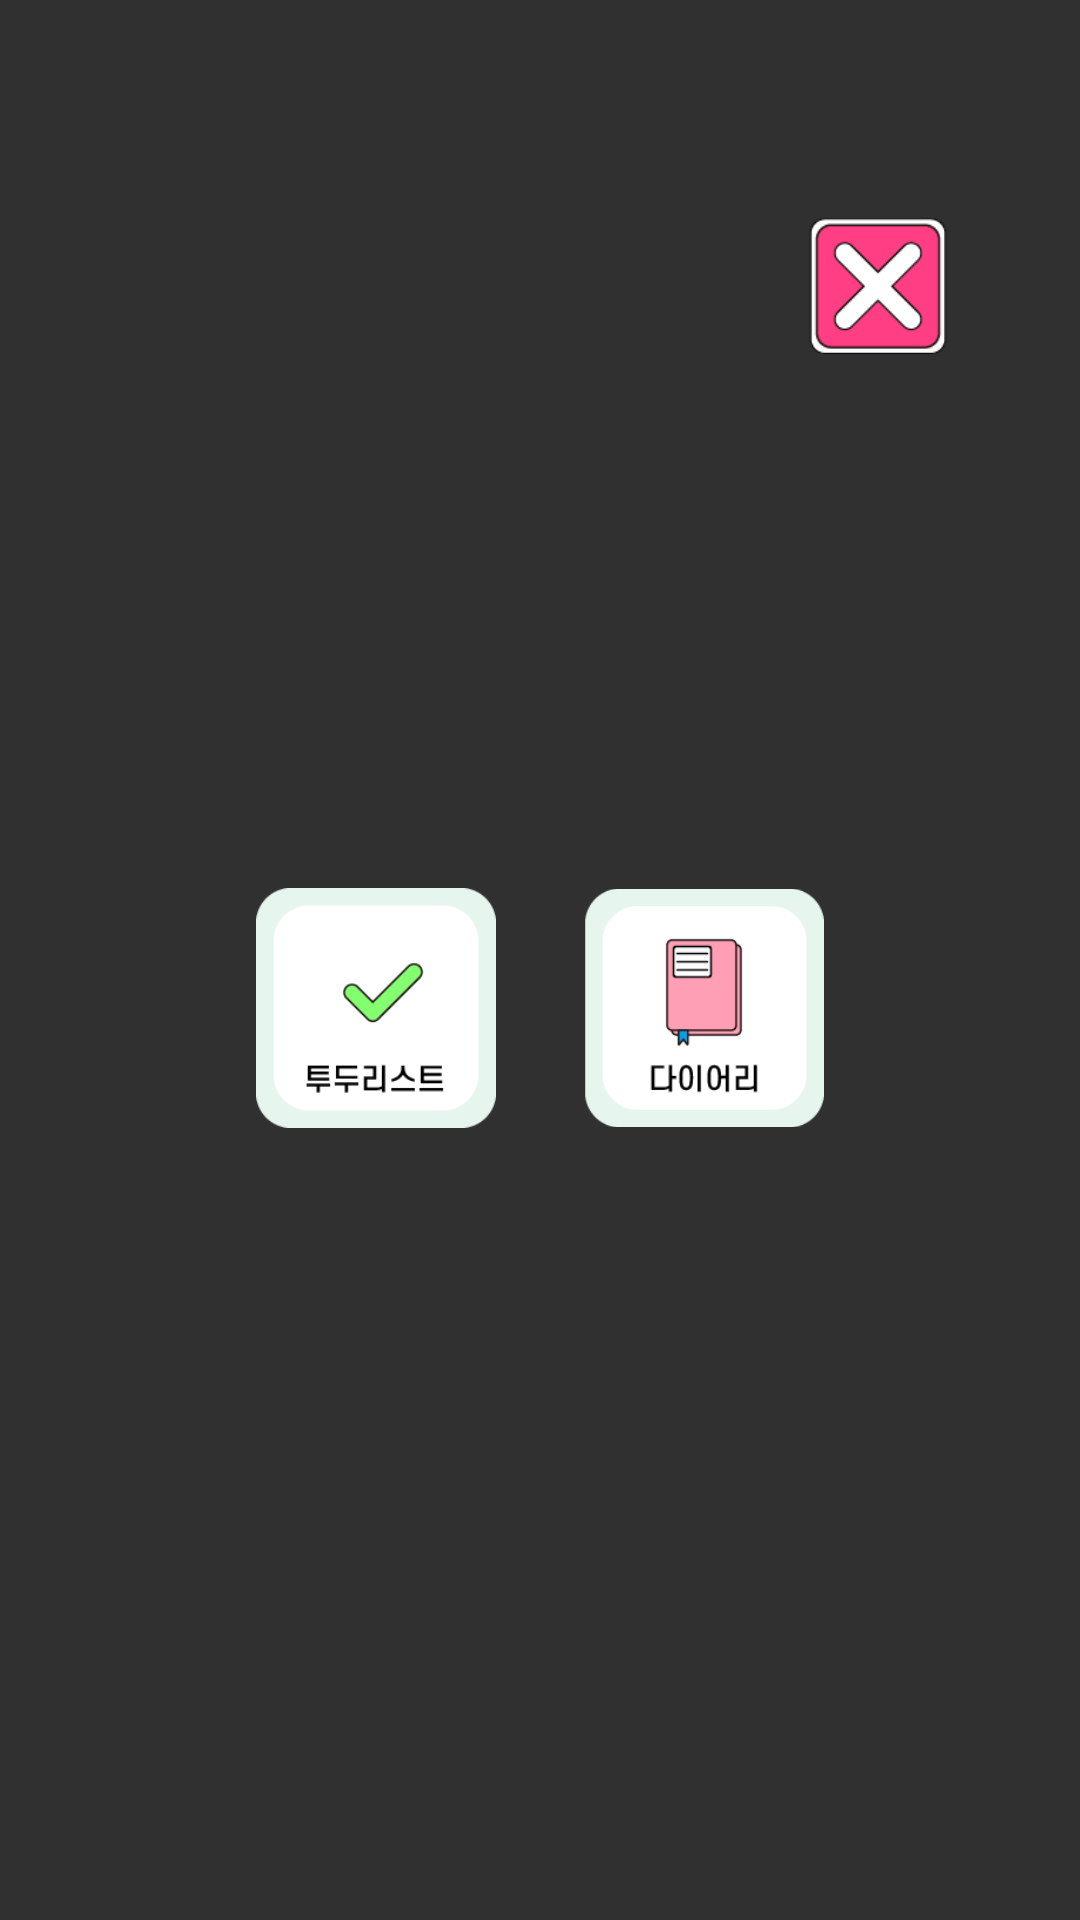

Where icons sit on this 1080 × 1920 app screen, as (x1, y1, x2, y2):
exit: (811, 219, 945, 354)
